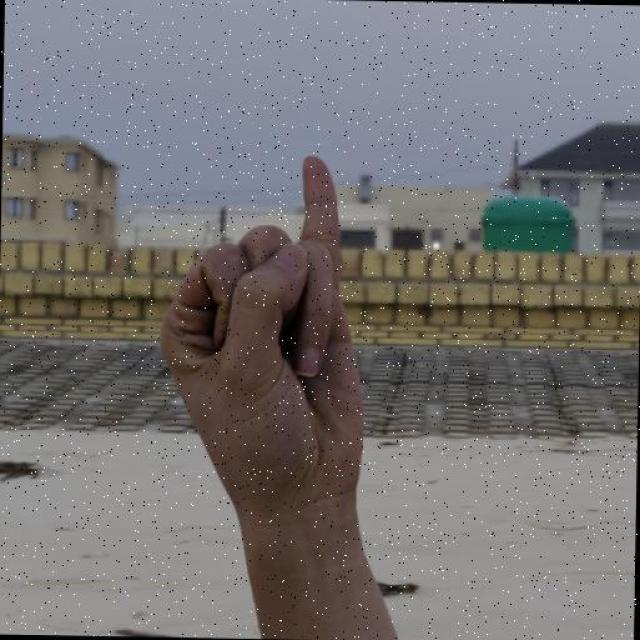I: (152, 151, 374, 518)
